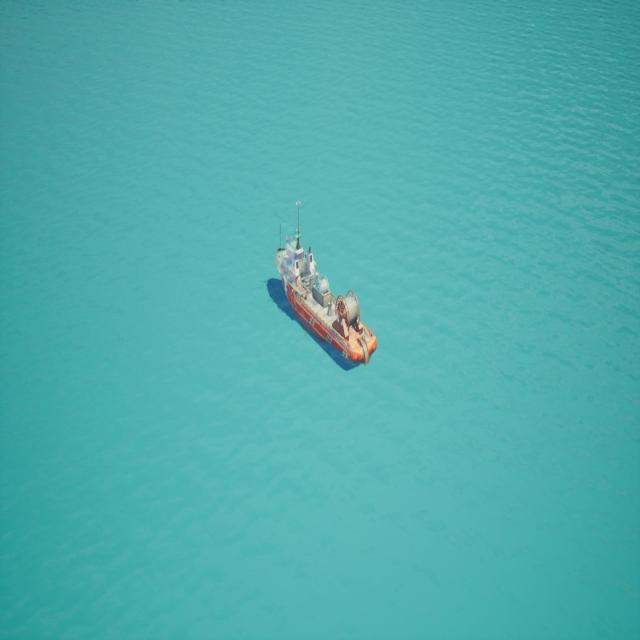tug boat: (268, 184, 389, 391)
